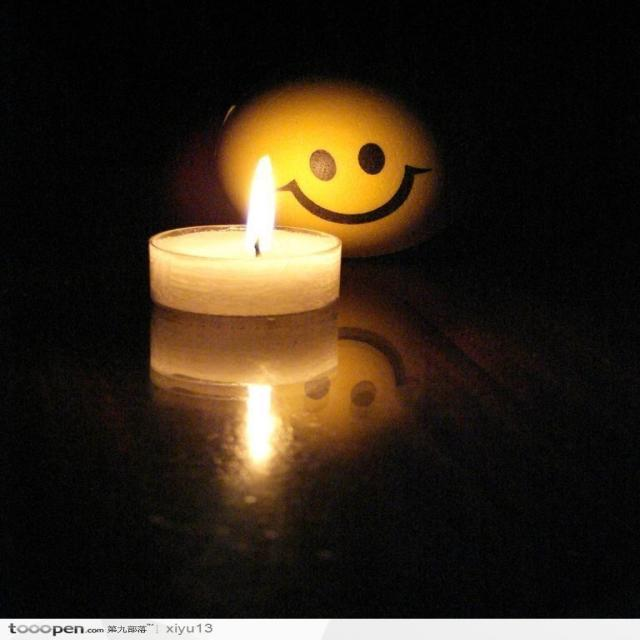Fire: (244, 152, 278, 258)
